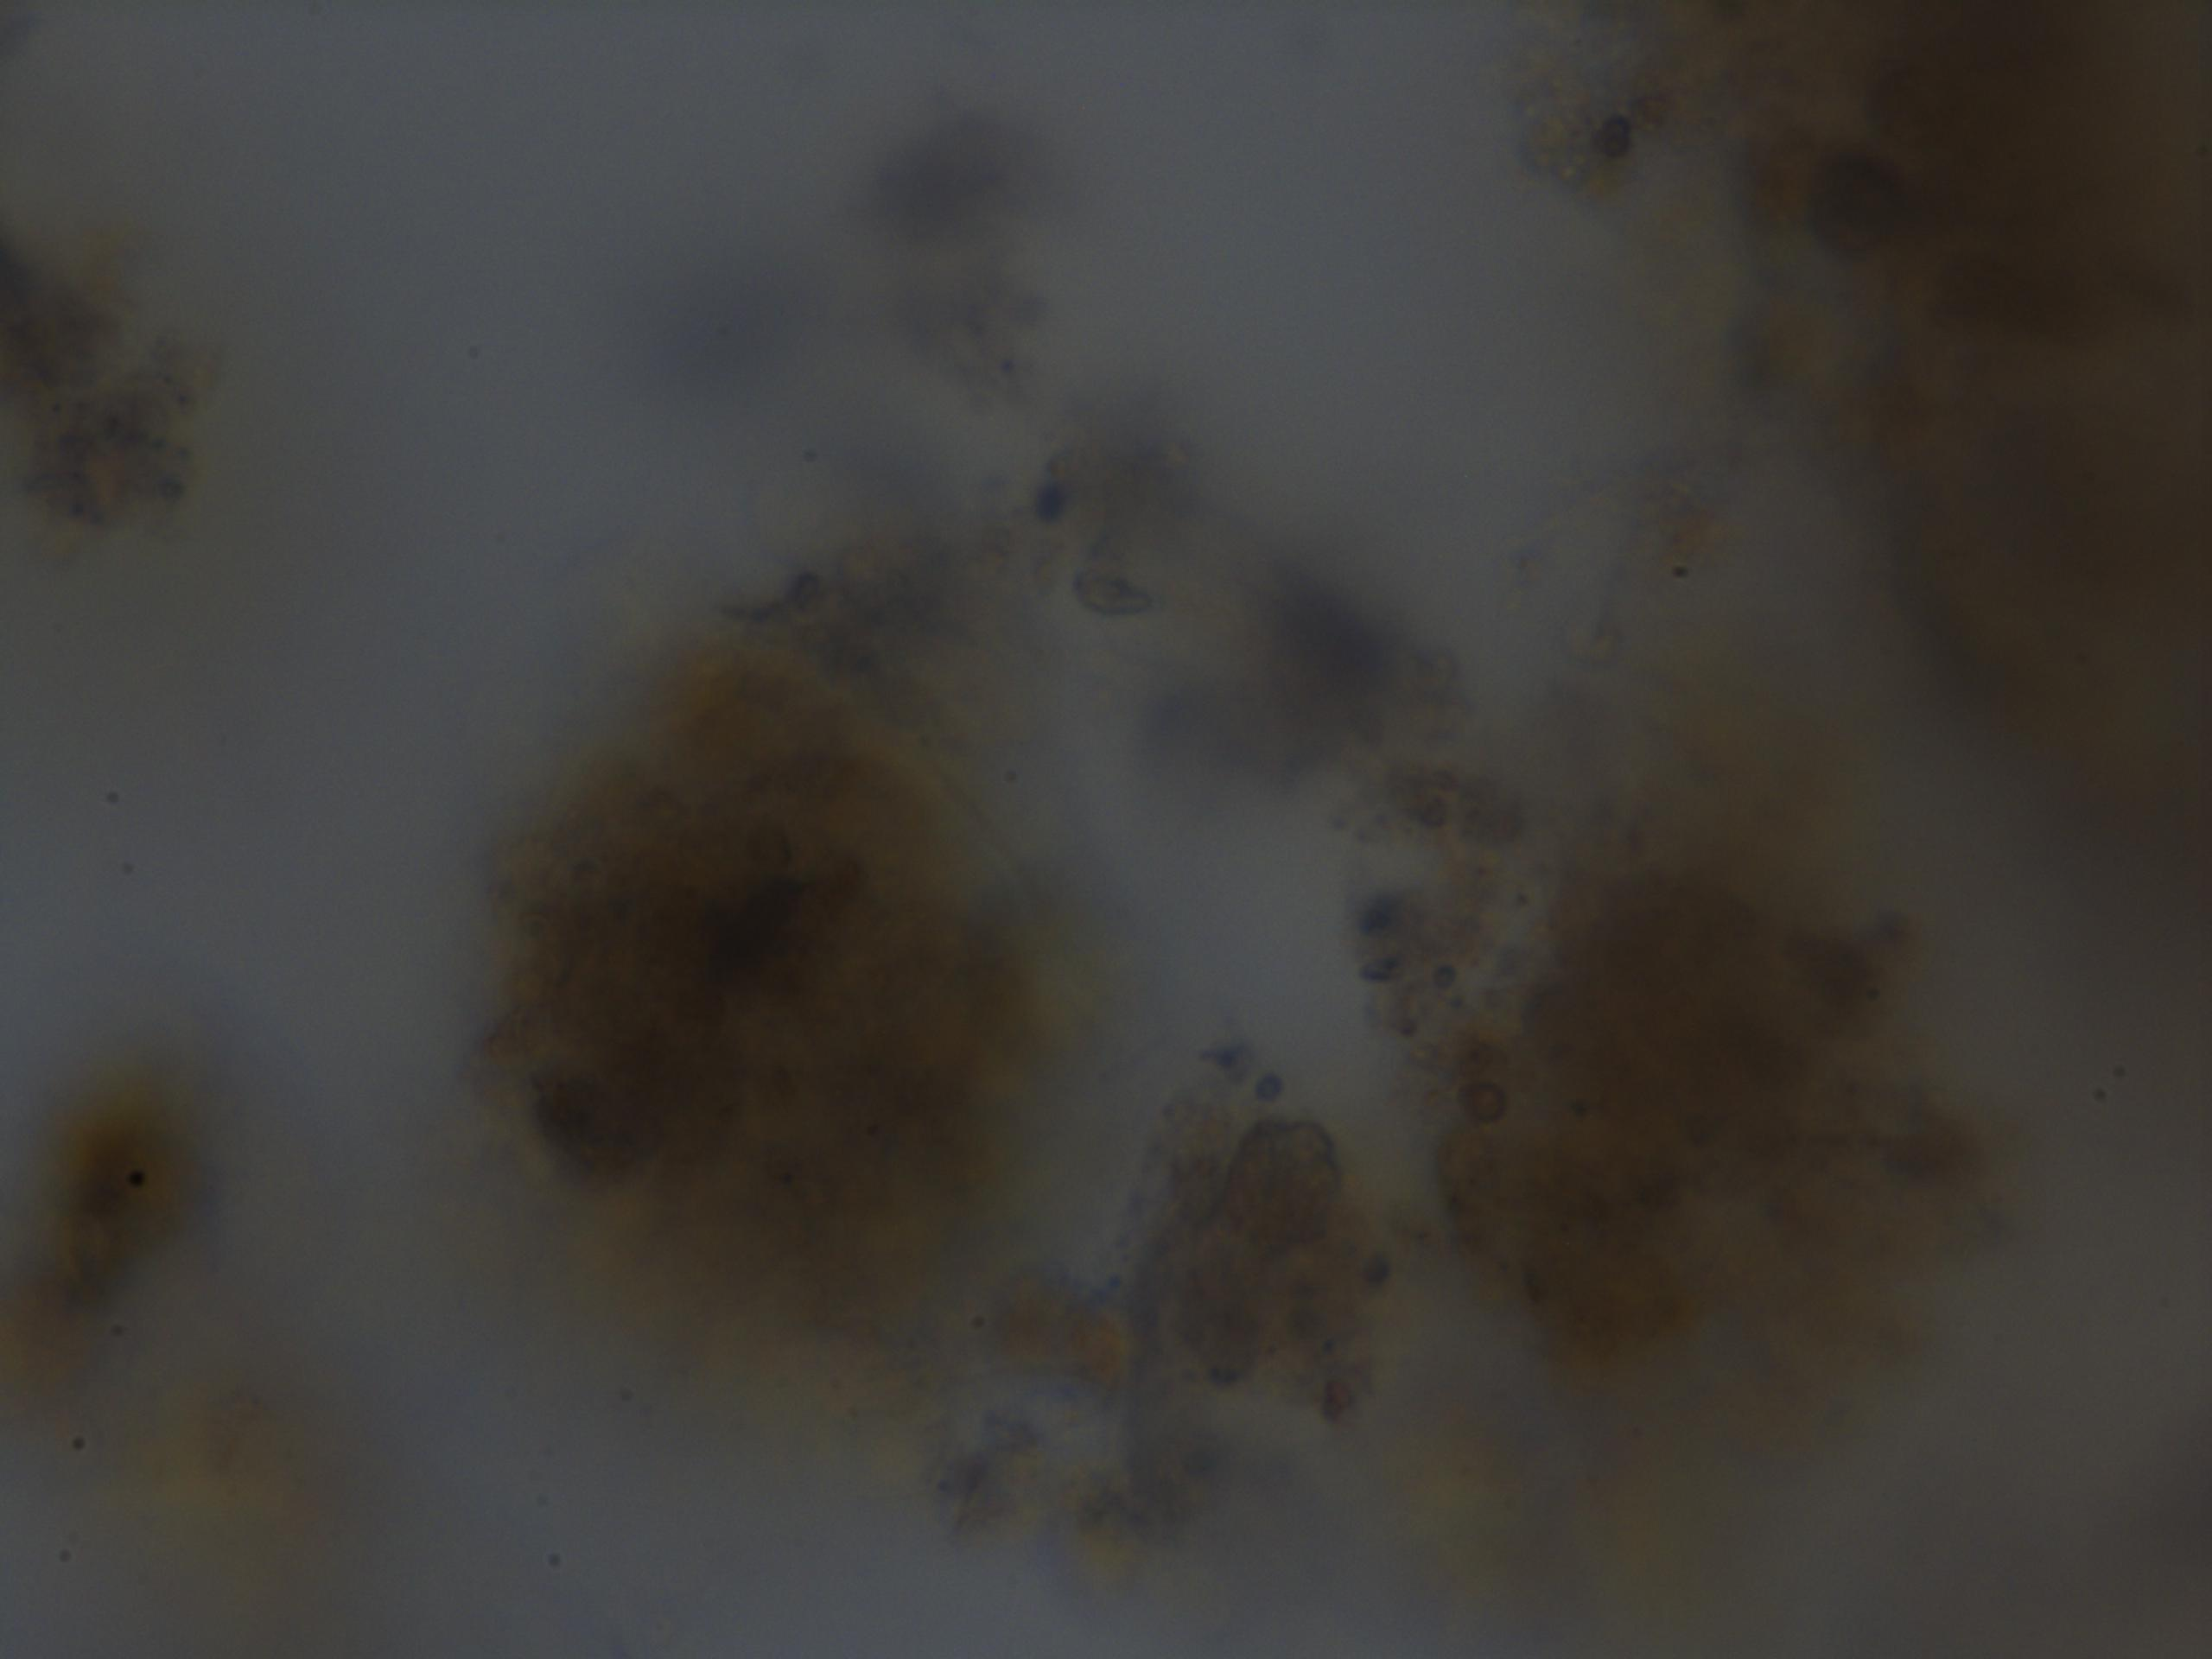open_floc: (477, 415, 1961, 1586)
